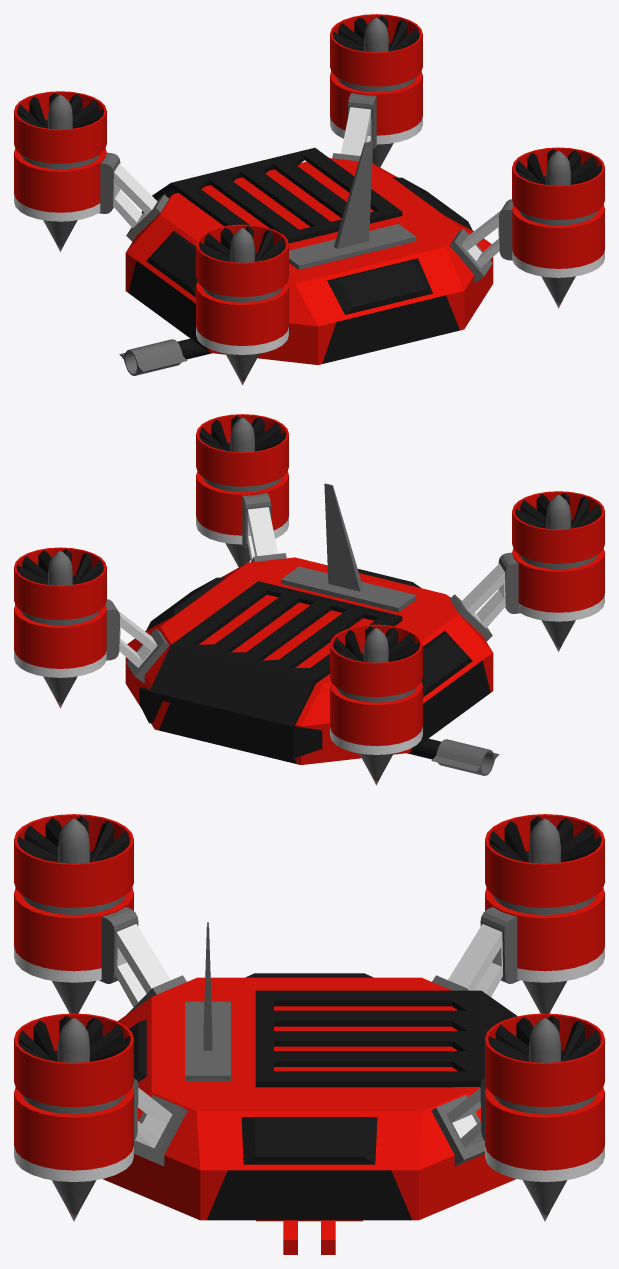
The model's file is boss.fbx.
3 renders of one model, top to bottom at view 1: azimuth 30°, elevation 25°; view 2: azimuth 150°, elevation 25°; view 3: azimuth 270°, elevation 25°, orthographic. The views are drawn at different scales.
Visible parts, largest first — view 1: Shell, Jets, Door_3, Door_2, gun; view 2: Shell, Jets, Door_1, Door_2, gun; view 3: Shell, Jets, Door_4, gun.
Boxes of the visible parts, x1,y1,x2,y2 form: Shell: (98,93,513,364); Jets: (14,14,604,385); Door_3: (322,295,459,363); Door_2: (128,260,207,350); gun: (119,338,211,375); Shell: (105,483,520,764); Jets: (14,414,604,785); Door_1: (159,702,296,763); Door_2: (411,660,490,750); gun: (407,738,499,775); Shell: (99,907,519,1220); Jets: (14,814,604,1221); Door_4: (207,1170,411,1220); gun: (256,1220,362,1254).
Bounding box in the file's own units: 280 × 145 × 280.
